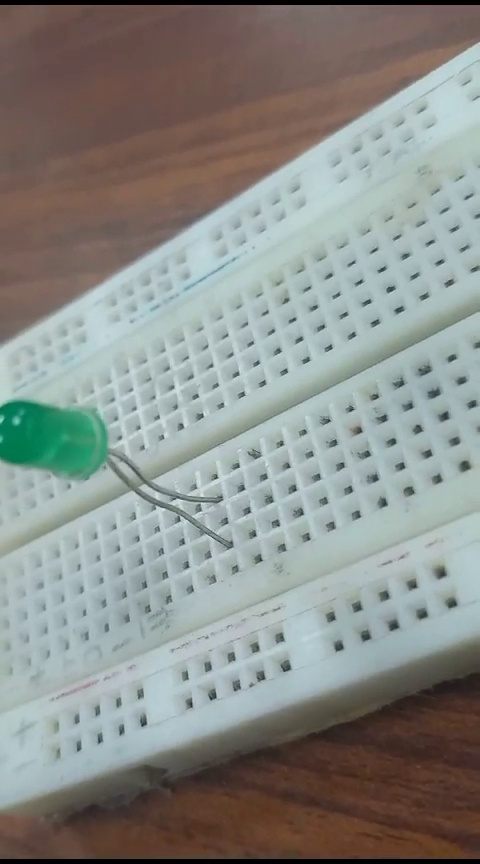LED: (3, 387, 231, 564)
